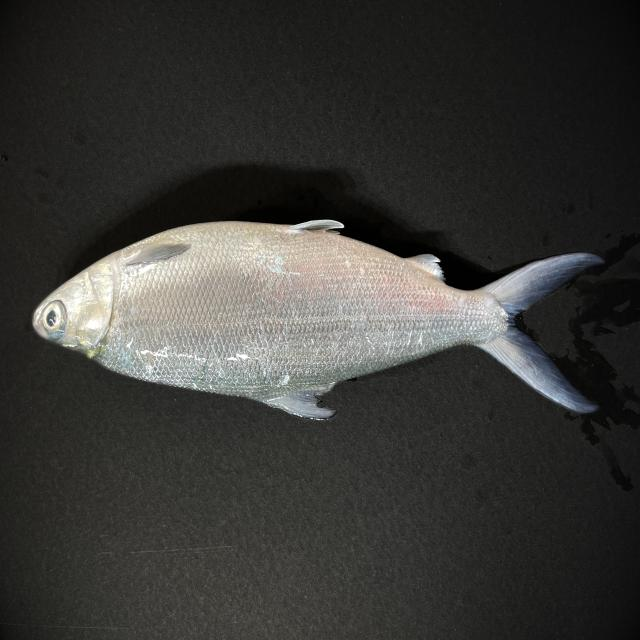735 g: (31, 218, 607, 420)
